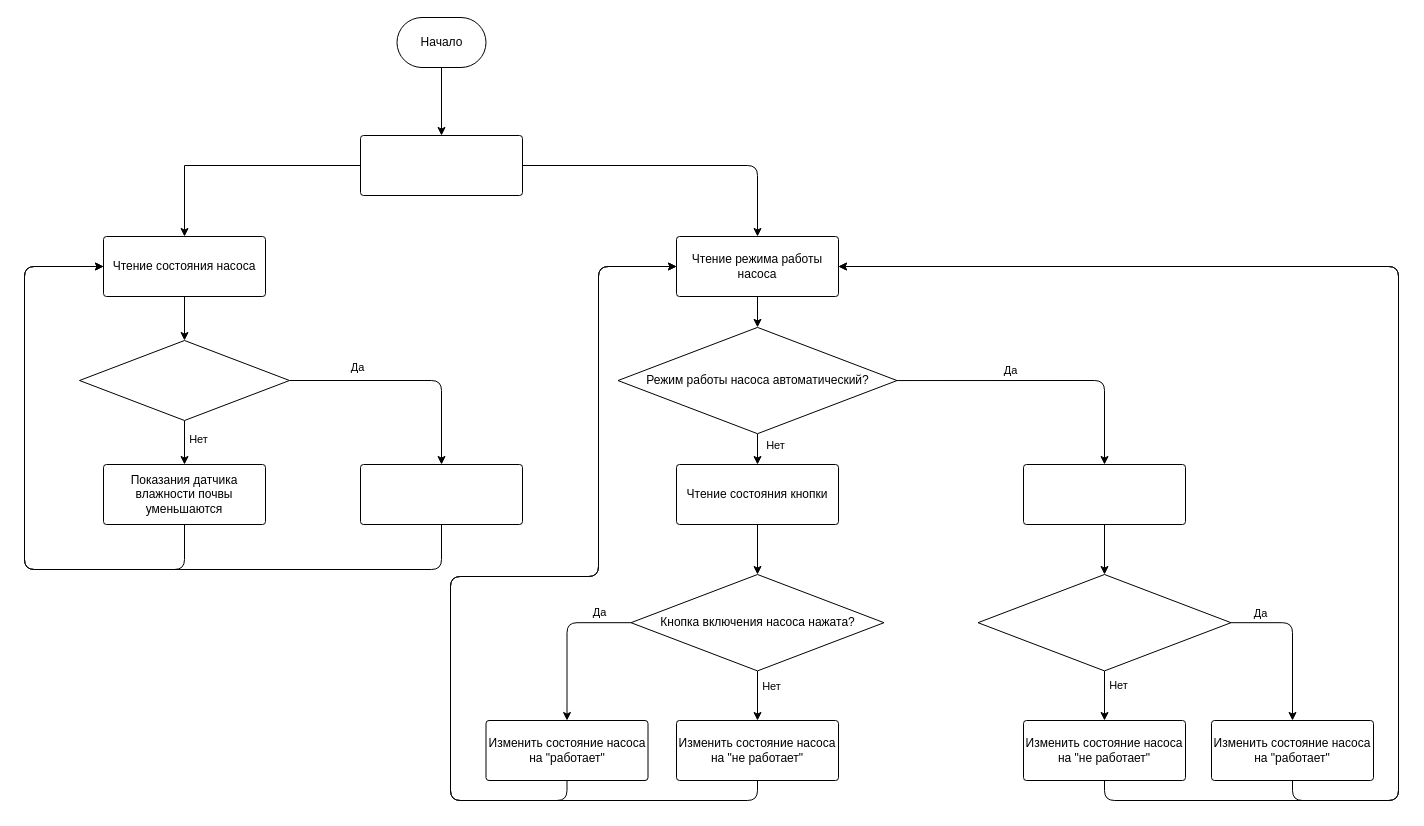
This 1424x826 diagram has some shape labels left out. The centre of each missing label's shape, as x and y in pixels:
"Влажность почвы недостаточная?" goes at (1104,622).
"Инициализация таймера для генерации данных и первоначальных значений" goes at (441,165).
"Насос работает?" goes at (184,380).
"Показания датчика влажности почвы повышаются" goes at (441,494).
"Чтение показаний датчика влажности почвы" goes at (1104,494).
